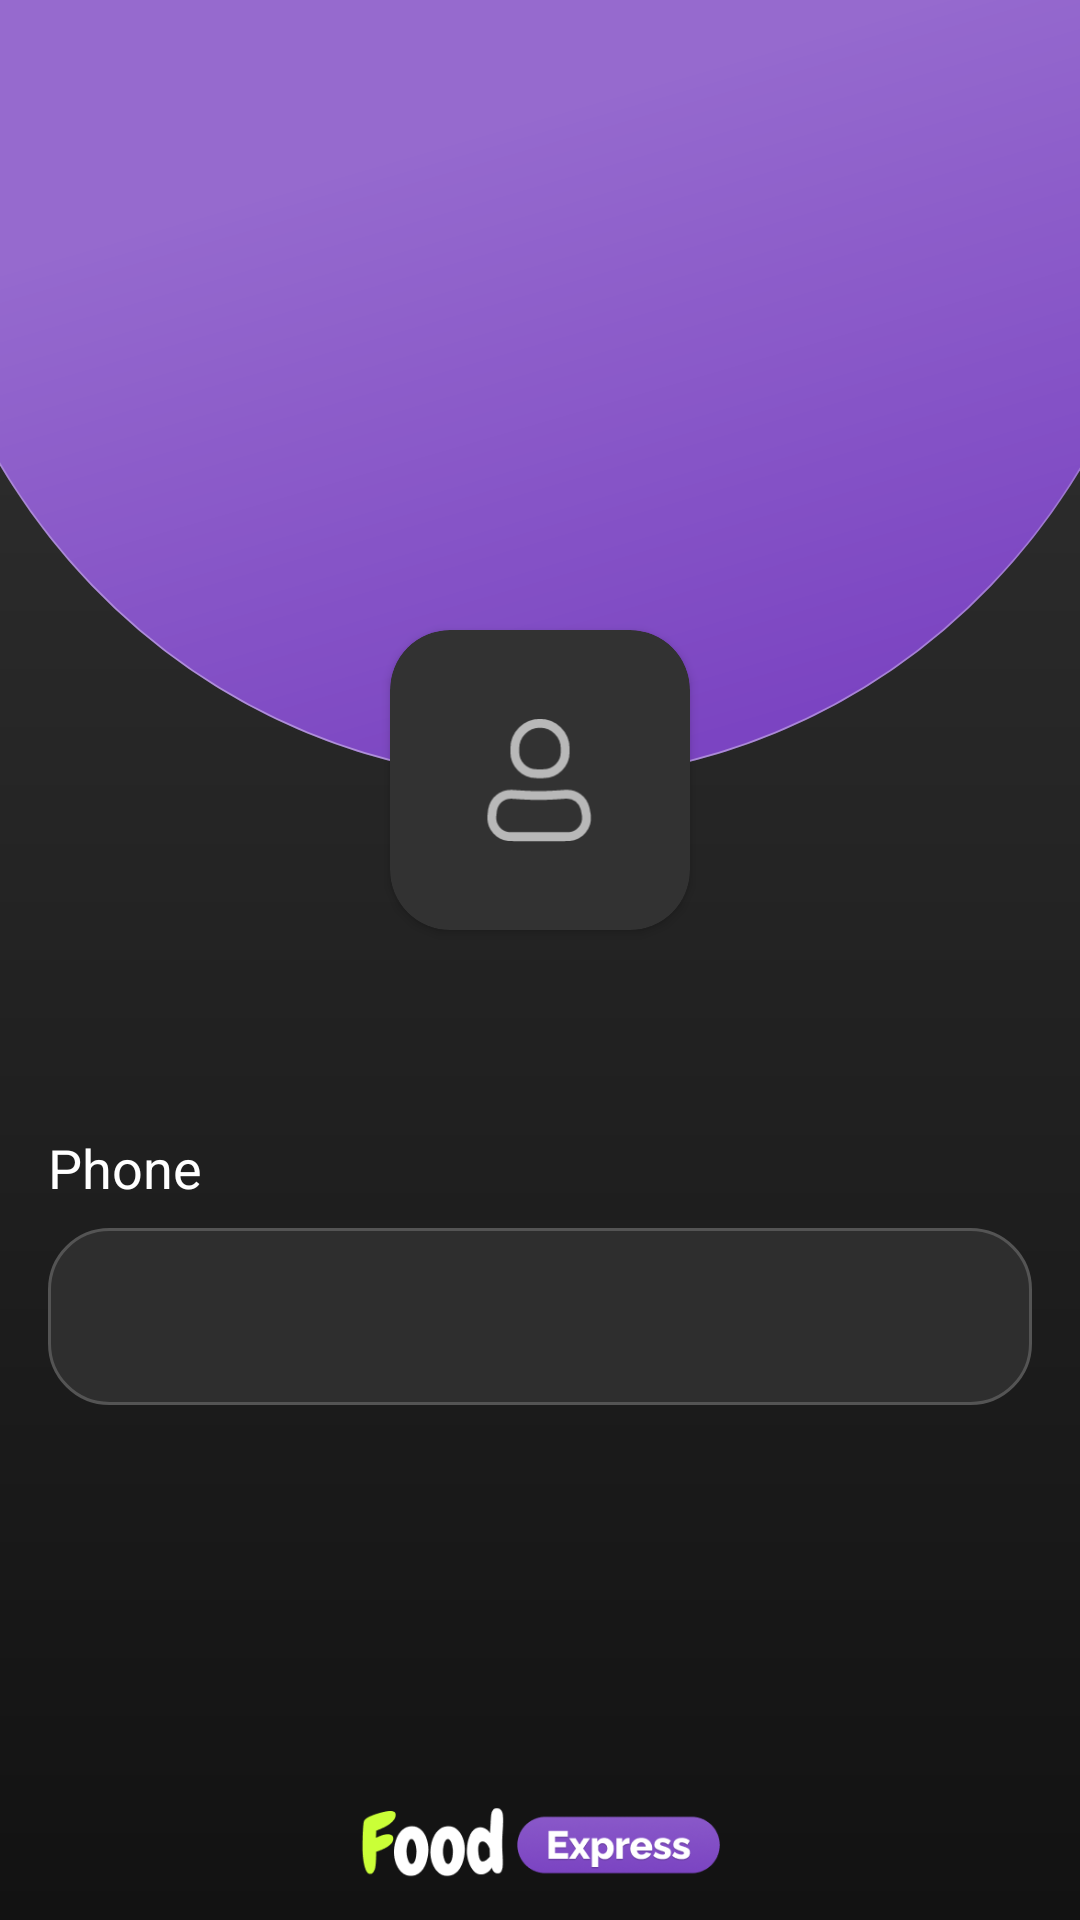

Where to tap for icons on this 1080 x 1920 app screen, as (x,y):
profile: (539,780)
